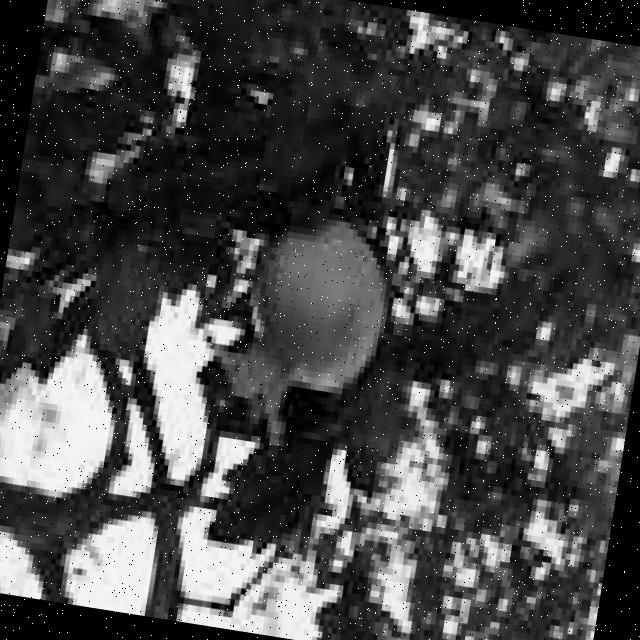Unripe: (212, 203, 401, 454)
